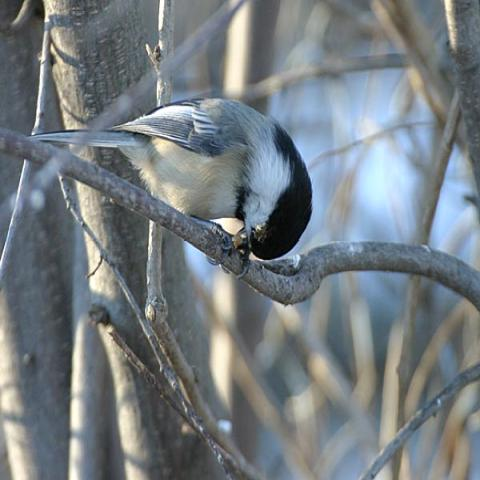bird: (24, 93, 314, 275)
